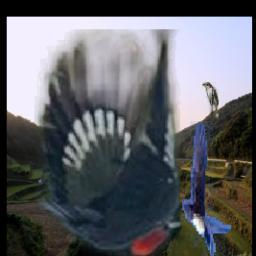Cuckoo: (203, 82, 220, 123)
Swallow: (183, 121, 232, 256)
Woodpecker: (35, 29, 180, 256)
